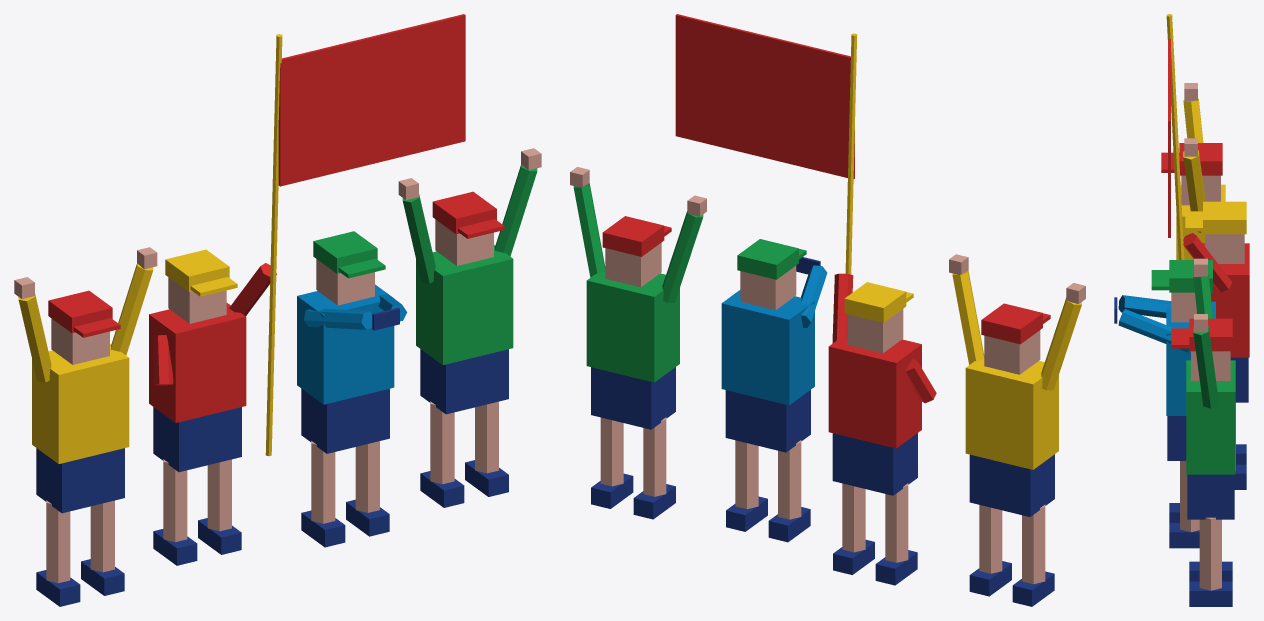
File: spectators_cheering.glb
The picture shows the model from 3 angles, left to right: view 1: azimuth 30°, elevation 25°; view 2: azimuth 150°, elevation 25°; view 3: azimuth 270°, elevation 25°; orthographic projection. The views are drawn at different scales.
Parts seen in each view (by area): view 1: Spectators_Barrier_Cluster; view 2: Spectators_Barrier_Cluster; view 3: Spectators_Barrier_Cluster.
Part boxes in pixels (x1=…): Spectators_Barrier_Cluster: x1=14, y1=14, x2=541, y2=606; Spectators_Barrier_Cluster: x1=570, y1=14, x2=1085, y2=606; Spectators_Barrier_Cluster: x1=1114, y1=14, x2=1249, y2=606.
Bounding box in the file's own units: 2.83 × 2.7 × 0.6825.
